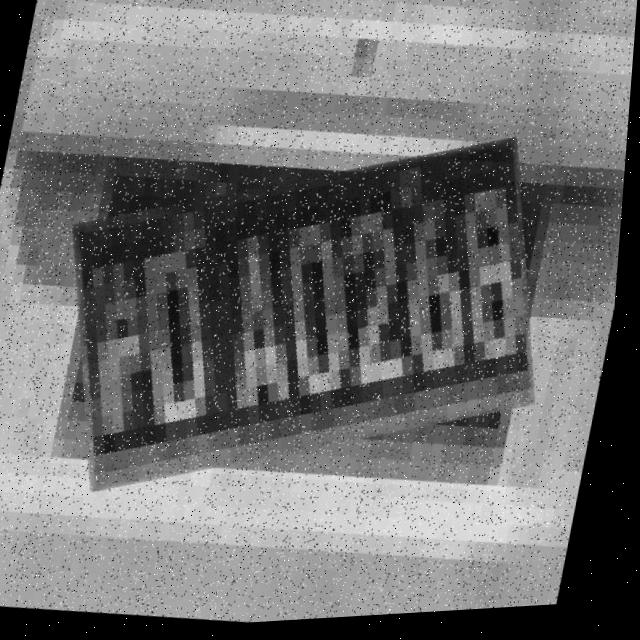LicensePlate: (43, 116, 574, 520)
